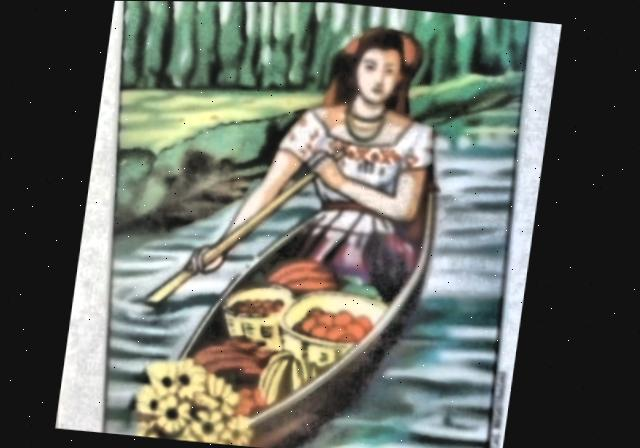La Chalupa: (109, 1, 528, 448)
